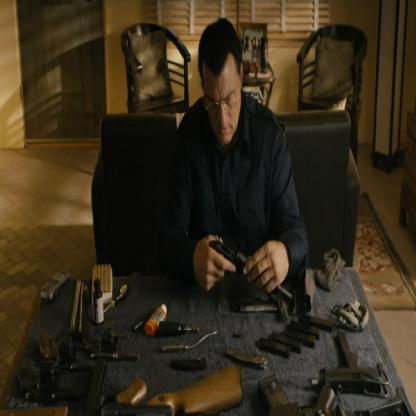Gun: (12, 316, 242, 415), (251, 317, 415, 415), (201, 231, 296, 308)
